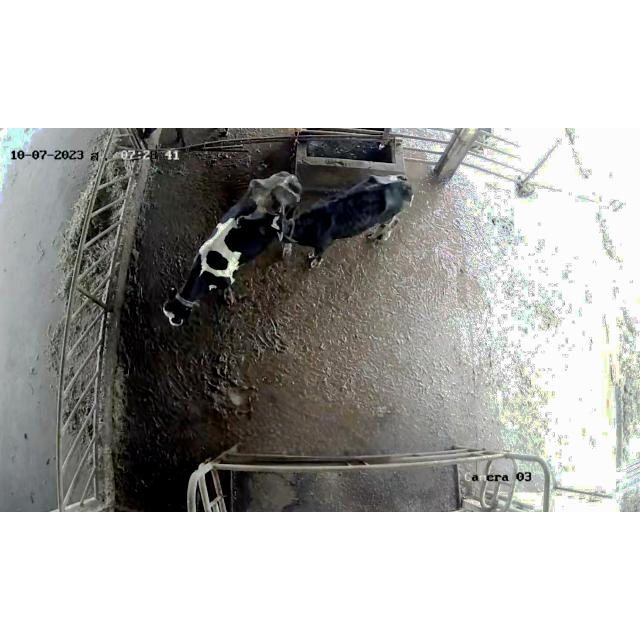propping: (223, 200, 327, 250)
